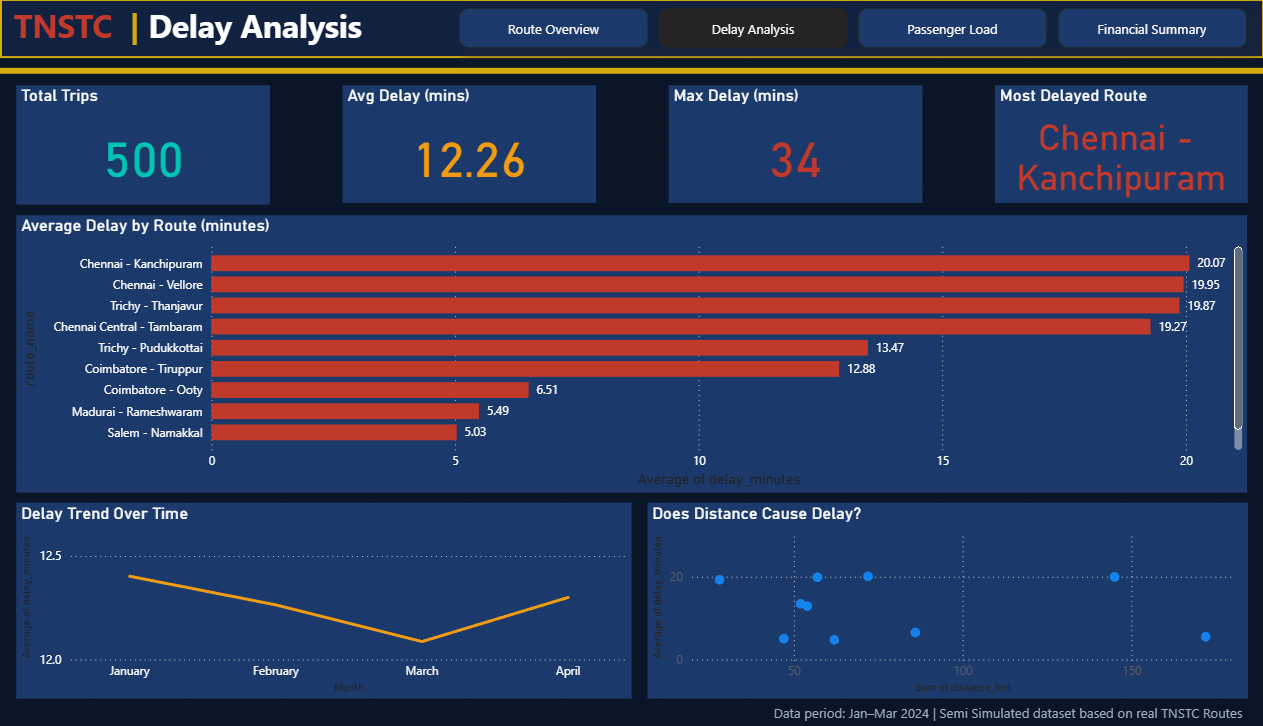

The dashboard page shown, as its layout file describes it:
{"tool":"powerbi","page":{"name":"Delay Analysis","canvas":[1280,737],"ordinal":1},"visuals":[{"type":"shape","box":[0,0,1280,59.8],"z":0},{"type":"shape","box":[0,59.8,1280,26.4],"z":1000},{"type":"textbox","box":[0,0,1227.3,59.7],"z":2000},{"type":"card","title":"Total Trips","fields":{"Values":["CountNonNull(trips.trip_id)"]},"box":[16.9,87,257.1,120.8],"z":3000},{"type":"card","title":"Avg Delay (mins)","fields":{"Values":["Avg(trips.delay_minutes)"]},"box":[347.3,87.2,257,119.5],"z":4000},{"type":"card","title":"Max Delay (mins)","fields":{"Values":["Max(trips.delay_minutes)"]},"box":[677.5,87.2,257,119.5],"z":5000},{"type":"card","title":"Most Delayed Route","fields":{"Values":["buses.Most Delayed Route"]},"box":[1007.8,87,255.8,119.5],"z":6000},{"type":"clusteredBarChart","title":"Average Delay by Route (minutes)","fields":{"Category":["routes.route_name"],"Y":["Avg(trips.delay_minutes)"]},"box":[16.9,219.5,1246.8,280.5],"z":7000},{"type":"lineChart","title":"Delay Trend Over Time","fields":{"Category":["trips.scheduled_time.Variation.Date Hierarchy.Month"],"Y":["Avg(trips.delay_minutes)"]},"box":[16.9,510.4,623.4,198.7],"z":8000},{"type":"scatterChart","title":"Does Distance Cause Delay?","fields":{"X":["Sum(routes.distance_km)"],"Category":["routes.route_name"],"Y":["Avg(trips.delay_minutes)"]},"box":[655.8,510.4,607.8,198.7],"z":9000},{"type":"textbox","box":[778.1,709.4,501.6,28.1],"z":10000},{"type":"pageNavigator","box":[464,8.6,800,41.8],"z":11000}]}

Visuals, with their boxes in screenshot pixels (x1, y1, x2, y2), scaled from the page's 1280x737 canvas onto the 1263x726 screenshot:
shape: [x1=0, y1=0, x2=1262, y2=59]
shape: [x1=0, y1=59, x2=1262, y2=85]
textbox: [x1=0, y1=0, x2=1211, y2=59]
"Total Trips" card: [x1=17, y1=86, x2=270, y2=205]
"Avg Delay (mins)" card: [x1=343, y1=86, x2=596, y2=204]
"Max Delay (mins)" card: [x1=669, y1=86, x2=922, y2=204]
"Most Delayed Route" card: [x1=994, y1=86, x2=1247, y2=203]
"Average Delay by Route (minutes)" clusteredBarChart: [x1=17, y1=216, x2=1247, y2=493]
"Delay Trend Over Time" lineChart: [x1=17, y1=503, x2=632, y2=699]
"Does Distance Cause Delay?" scatterChart: [x1=647, y1=503, x2=1247, y2=699]
textbox: [x1=768, y1=699, x2=1262, y2=725]
pageNavigator: [x1=458, y1=8, x2=1247, y2=50]
